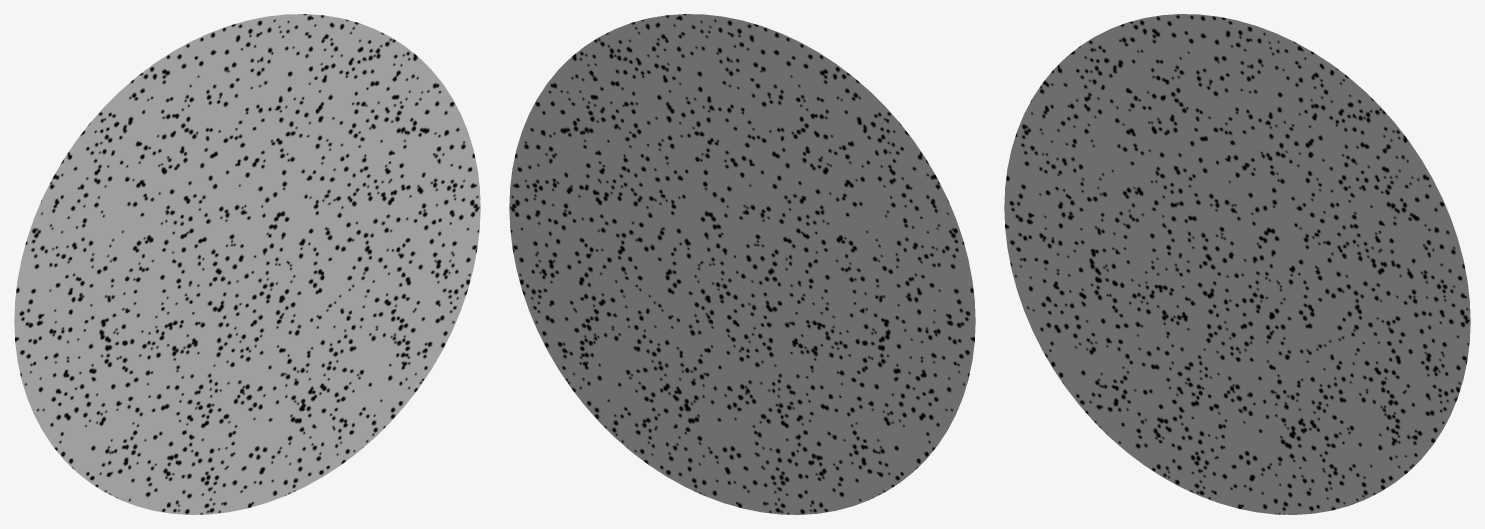
Rendered from surface_texture_refract.obj.
3 renders of one model, left to right at view 1: azimuth 30°, elevation 25°; view 2: azimuth 150°, elevation 25°; view 3: azimuth 330°, elevation 25°, orthographic.
Visible parts, largest first — view 1: surface_texture; view 2: surface_texture; view 3: surface_texture.
Part boxes in pixels (<box>): surface_texture: <box>14,14,480,514</box>; surface_texture: <box>509,14,975,514</box>; surface_texture: <box>1004,14,1470,514</box>.
Size of the model in its own units: 144 by 144 by 0.
Materials: 1 (1 with a texture image).
